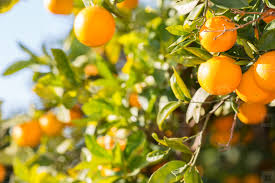orange: (193, 56, 242, 94), (73, 7, 116, 45), (196, 13, 236, 52)
